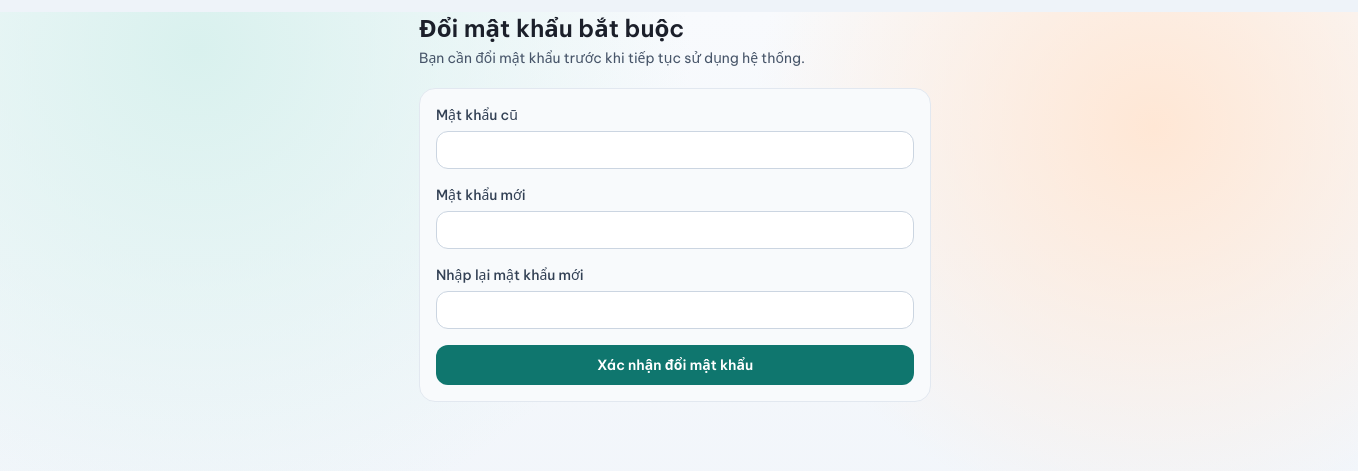
ChangePasswordPage › shows error when confirmation does not match
Type "oldpass" into the password field labelled "Mật khẩu cũ".
click(675, 150); type("oldpass")  # box [436,131,914,169]
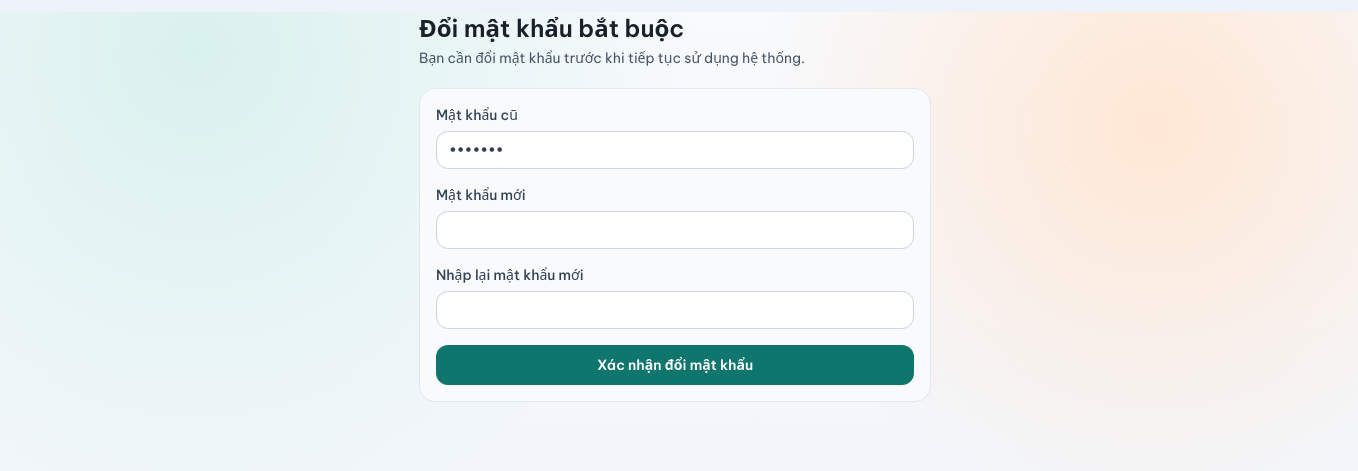
Type "Newpass1!" into the password field labelled "Mật khẩu mới".
click(675, 230); type("Newpass1!")  # box [436,211,914,249]
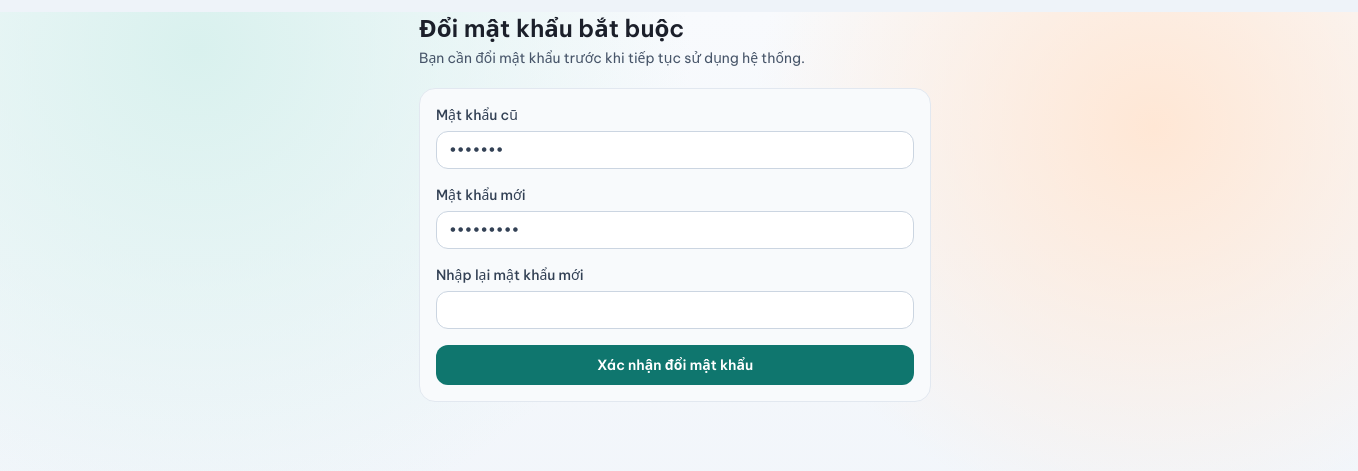
Type "different" into the password field labelled "Nhập lại mật khẩu mới".
click(675, 310); type("different")  # box [436,291,914,329]
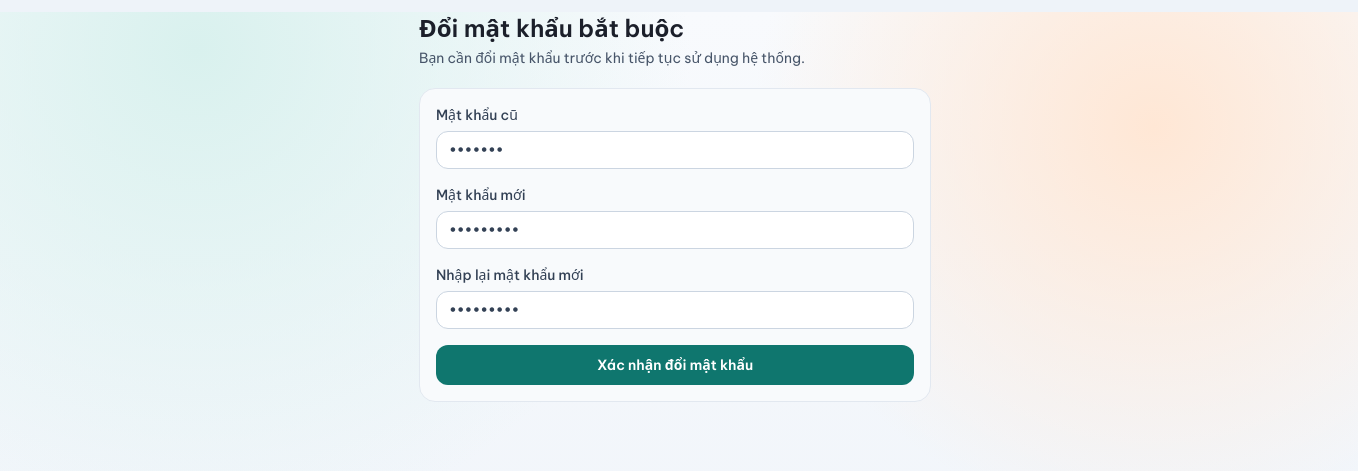
Click the button "Xác nhận đổi mật khẩu".
click(675, 365)  # box [436,345,914,385]
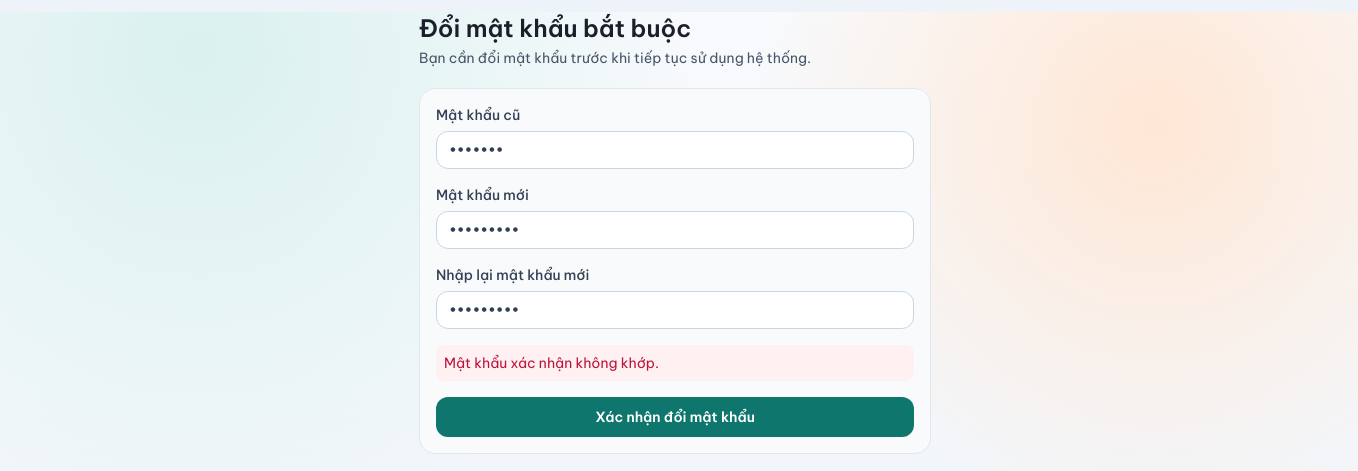
Expected: the text "Mật khẩu xác nhận không khớp." is shown, [436,345,914,381]
